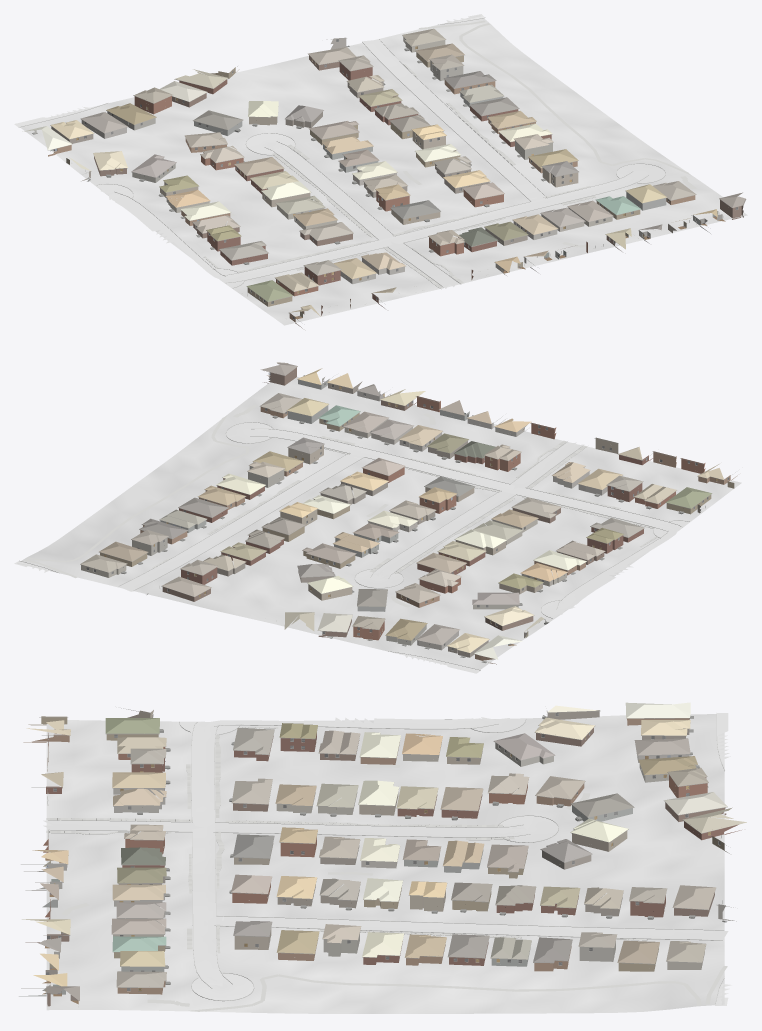
3 renders of one model, top to bottom at view 1: azimuth 30°, elevation 25°; view 2: azimuth 150°, elevation 25°; view 3: azimuth 270°, elevation 25°, orthographic. The views are drawn at different scales.
Visible parts, largest first — view 1: ground, roof, concrete, wall, wall_stucco, detail, walk, curb, wall_stone, glass; view 2: ground, roof, concrete, wall, detail, wall_stucco, walk, curb, wall_stone, glass; view 3: ground, roof, concrete, wall, walk, wall_stucco, detail, curb, wall_stone, glass.
Boxes of the visible parts, <box> form: ground: <box>20,15,747,325</box>; roof: <box>22,28,746,316</box>; concrete: <box>14,14,665,288</box>; wall: <box>48,52,743,328</box>; wall_stucco: <box>107,37,710,259</box>; detail: <box>32,35,738,320</box>; walk: <box>204,20,696,288</box>; curb: <box>18,17,665,288</box>; wall_stone: <box>81,120,649,284</box>; glass: <box>84,39,737,319</box>; ground: <box>17,377,741,669</box>; roof: <box>80,362,723,659</box>; concrete: <box>14,422,689,673</box>; wall: <box>100,367,737,664</box>; detail: <box>80,366,735,662</box>; wall_stucco: <box>81,379,566,645</box>; walk: <box>25,404,657,607</box>; curb: <box>19,422,689,670</box>; wall_stone: <box>357,391,607,650</box>; glass: <box>86,378,728,650</box>; ground: <box>46,714,724,1013</box>; roof: <box>22,702,746,1000</box>; concrete: <box>43,713,731,1005</box>; wall: <box>23,710,741,1006</box>; walk: <box>46,727,727,1011</box>; wall_stucco: <box>19,742,736,996</box>; detail: <box>21,708,734,1006</box>; curb: <box>48,713,724,1005</box>; wall_stone: <box>24,754,689,958</box>; glass: <box>46,713,720,990</box>.
Size of the model in its own units: 259 by 12.49 by 271.
